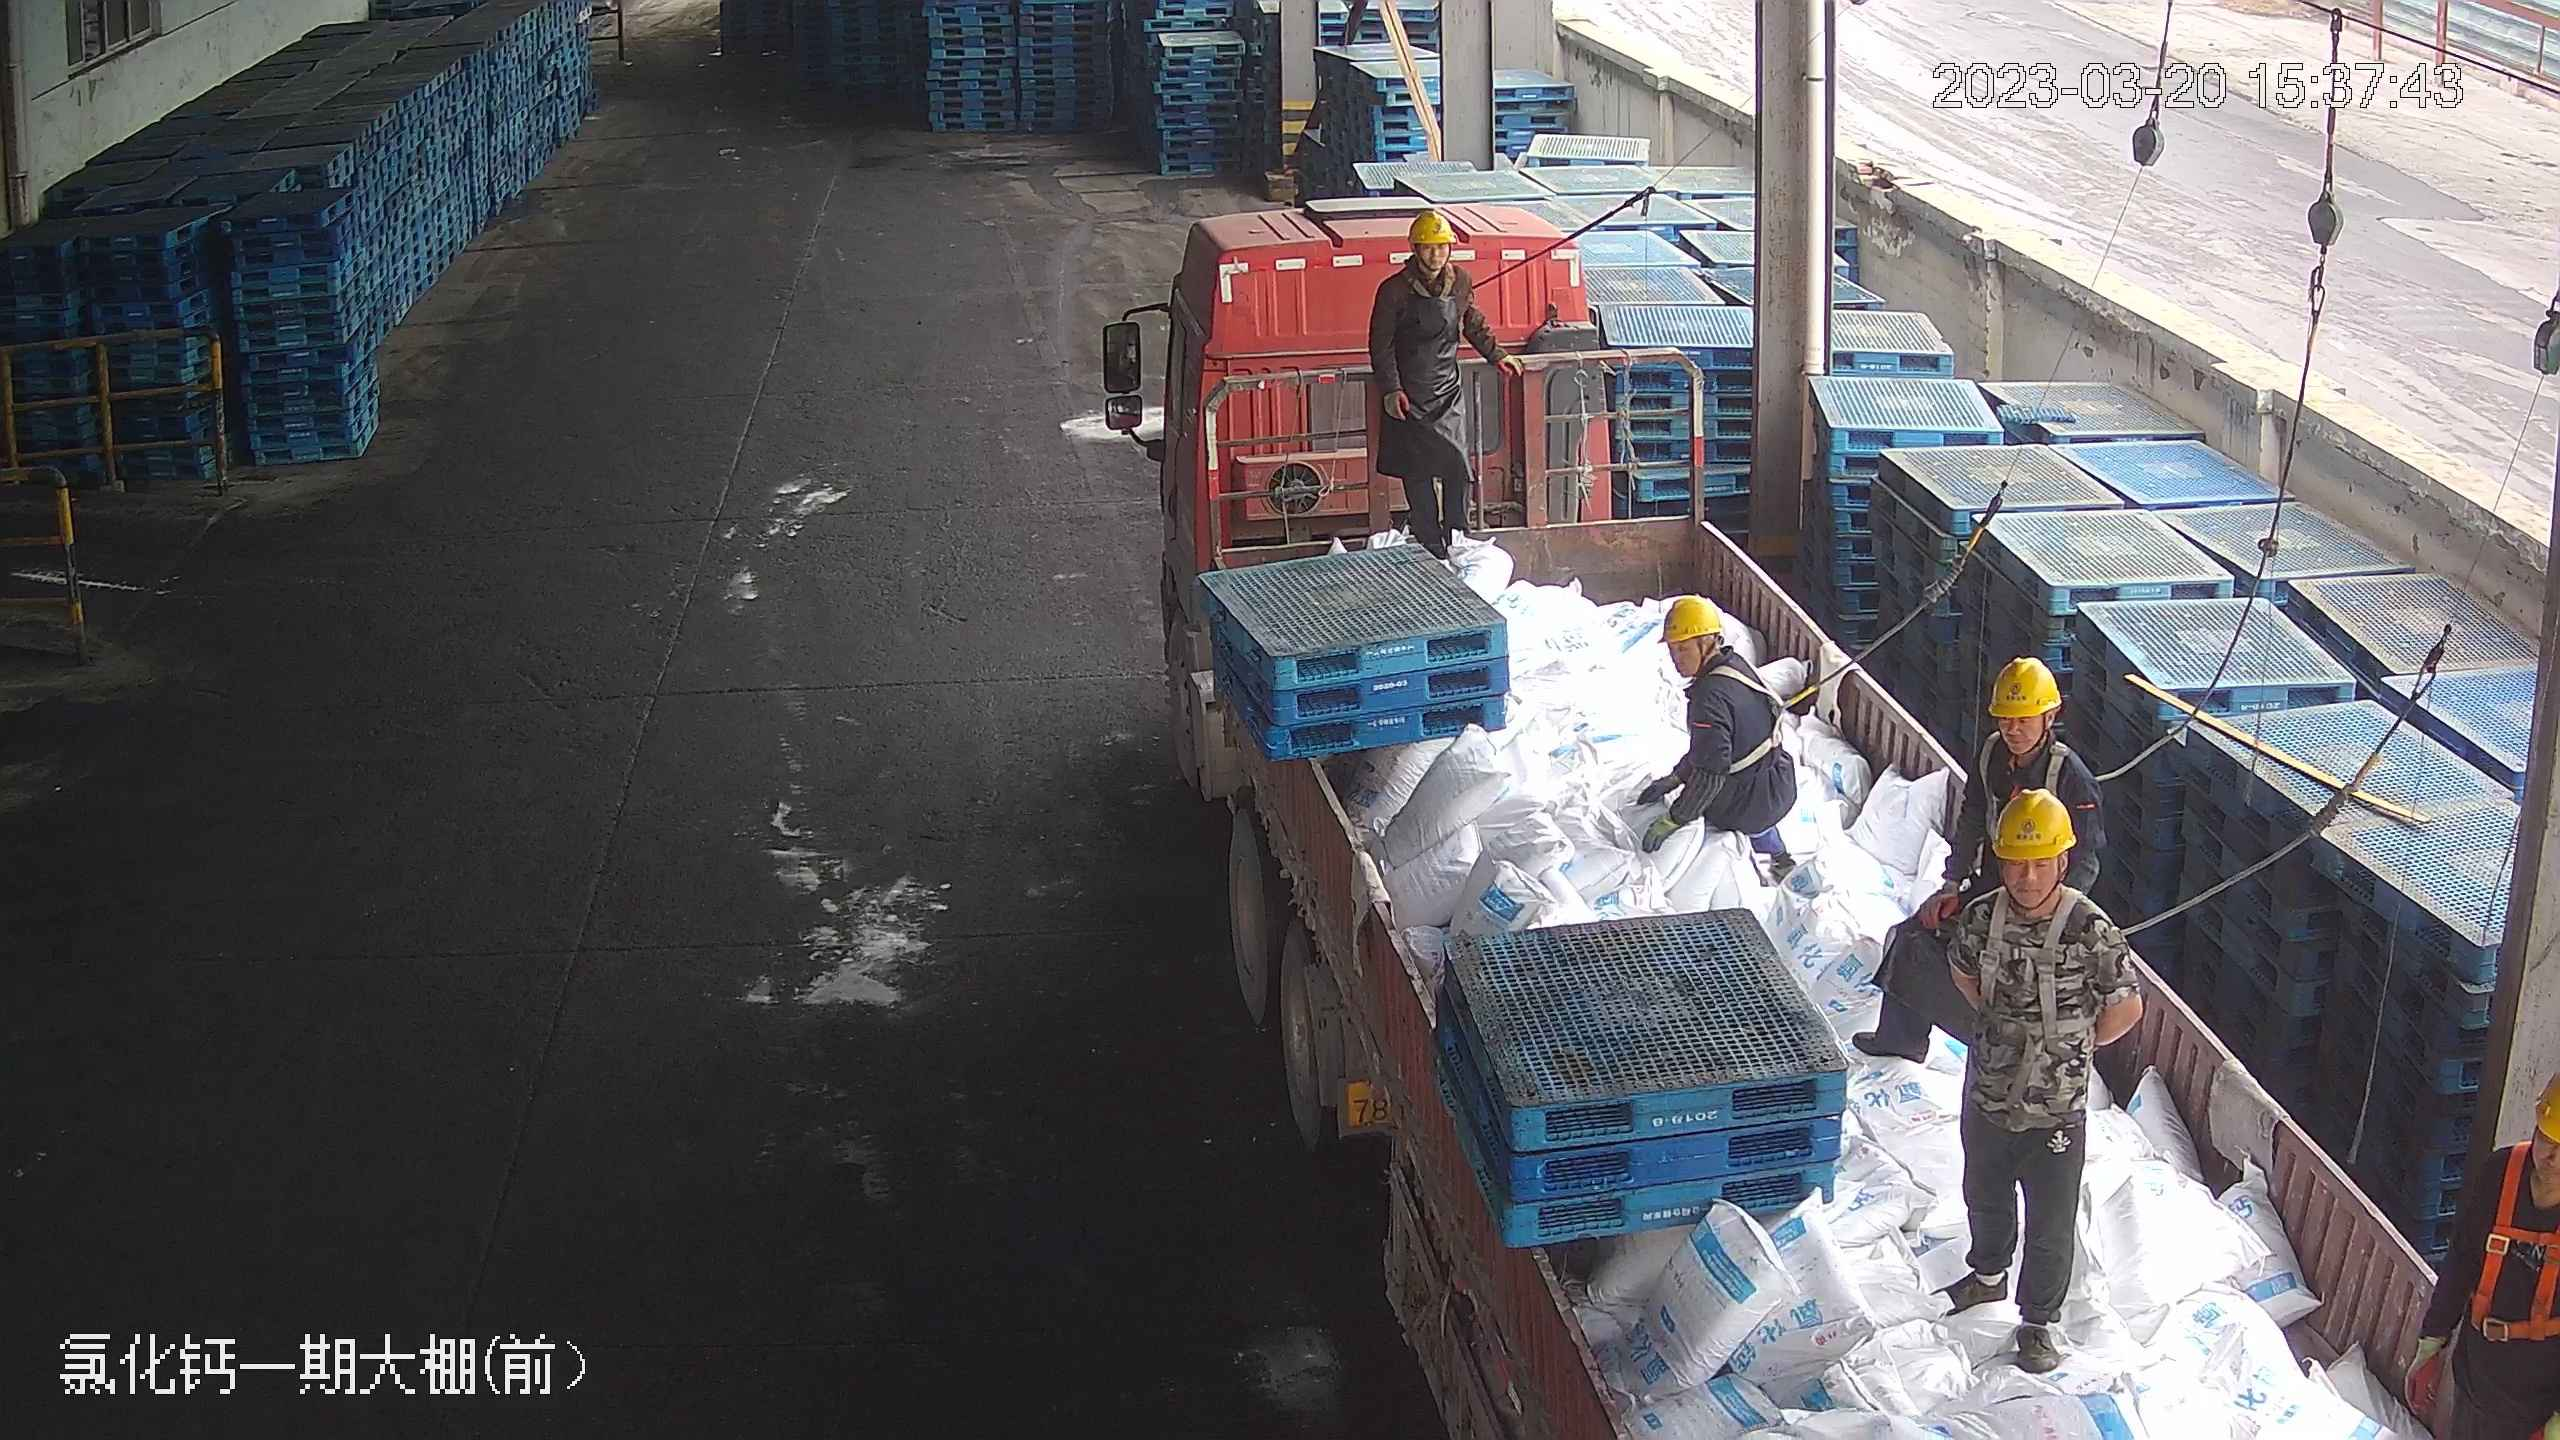belt: (1970, 889, 2115, 1040), (2465, 1151, 2556, 1333), (1707, 656, 1814, 773), (1983, 731, 2083, 795), (1394, 260, 1468, 317)
head: (1937, 786, 2118, 973), (1955, 650, 2097, 794), (1653, 592, 1780, 731), (1370, 207, 1480, 323)
helmet: (1991, 785, 2078, 861), (1984, 652, 2063, 715), (1658, 593, 1728, 646), (2532, 1063, 2559, 1148), (1402, 206, 1454, 244)
people: (1924, 788, 2145, 1376), (1365, 203, 1516, 564), (1625, 588, 1804, 892)
truck: (1104, 170, 2379, 1433)
